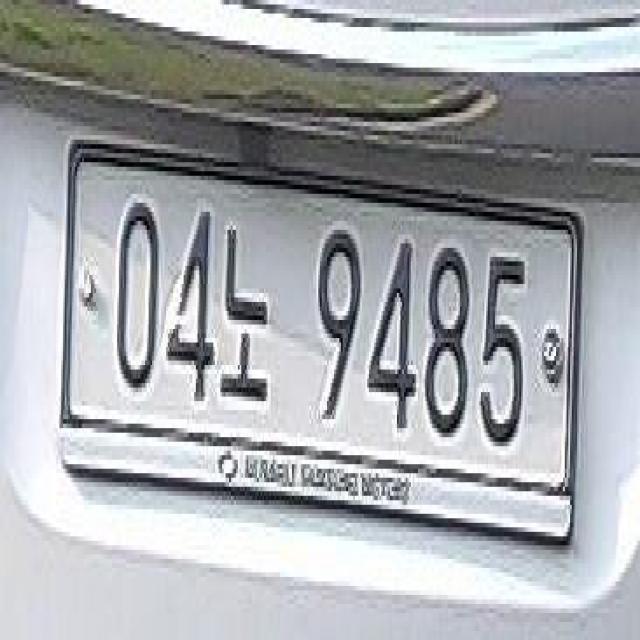illegal_plate: (68, 148, 582, 568)
